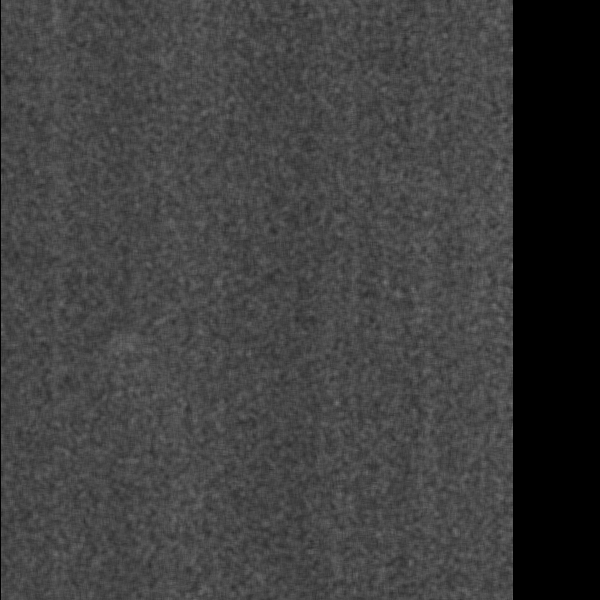spark: (158, 309, 235, 488), (138, 91, 186, 189), (433, 175, 498, 223)
